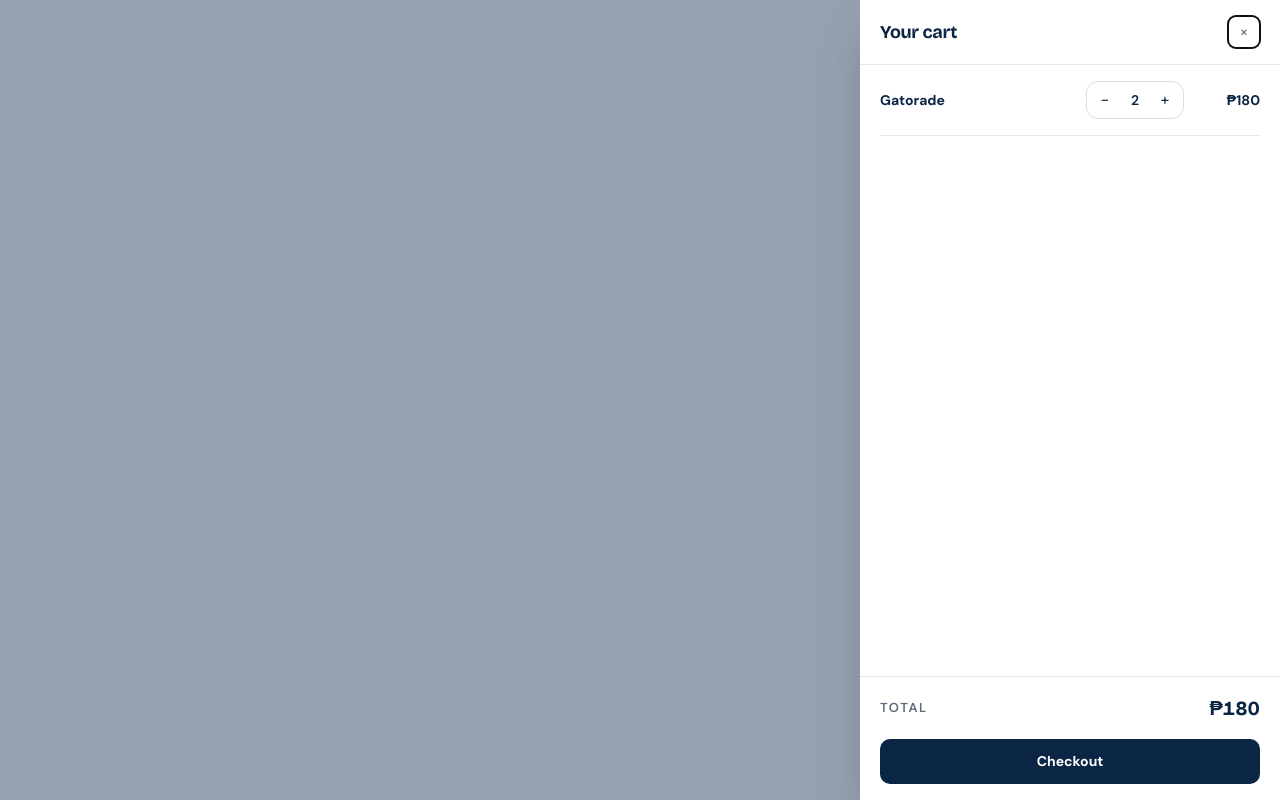
it: CartDrawer › raises an add-on quantity from the drawer
This screenshot has width=1280, height=800.
Click the button named "Increase Gatorade" at x=1165, y=100, box [1151,86,1179,114]
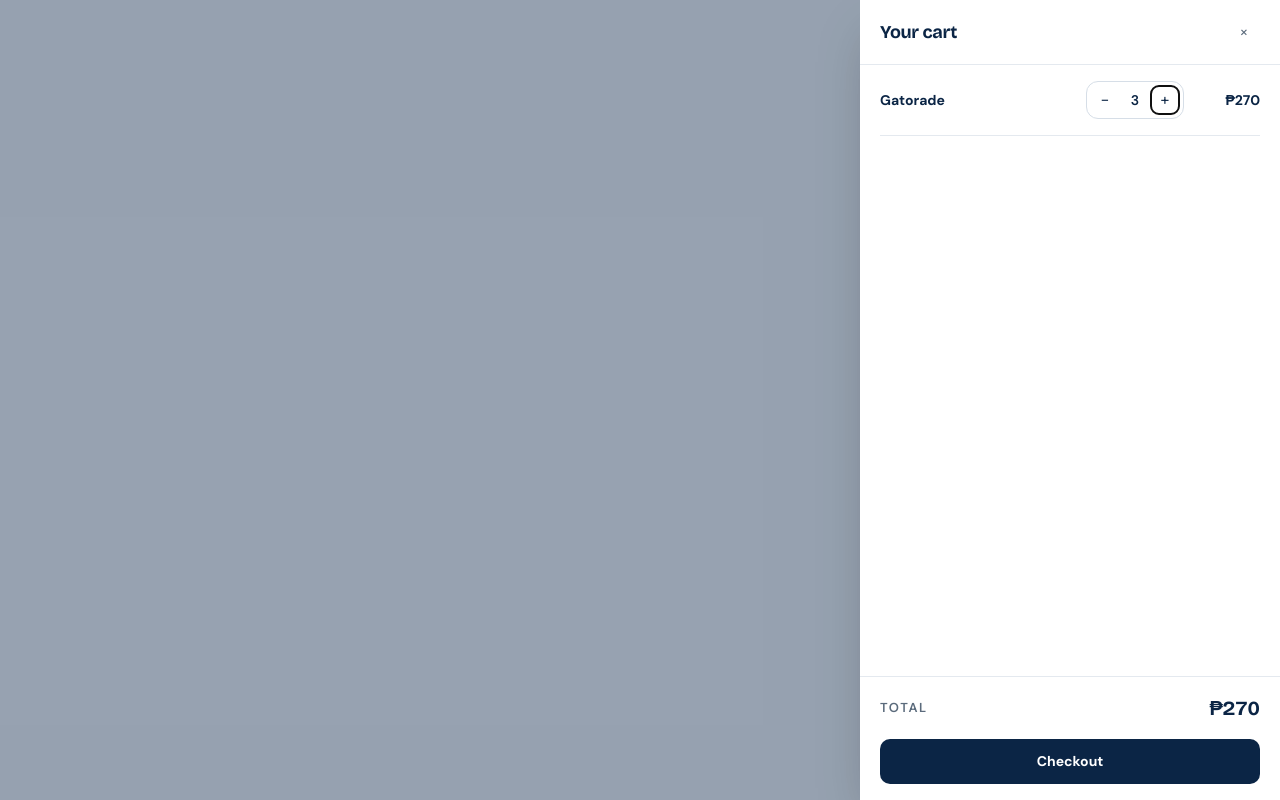
Now the text "₱270" in the row of "Gatorade" is shown, box [1225,90,1260,108]
